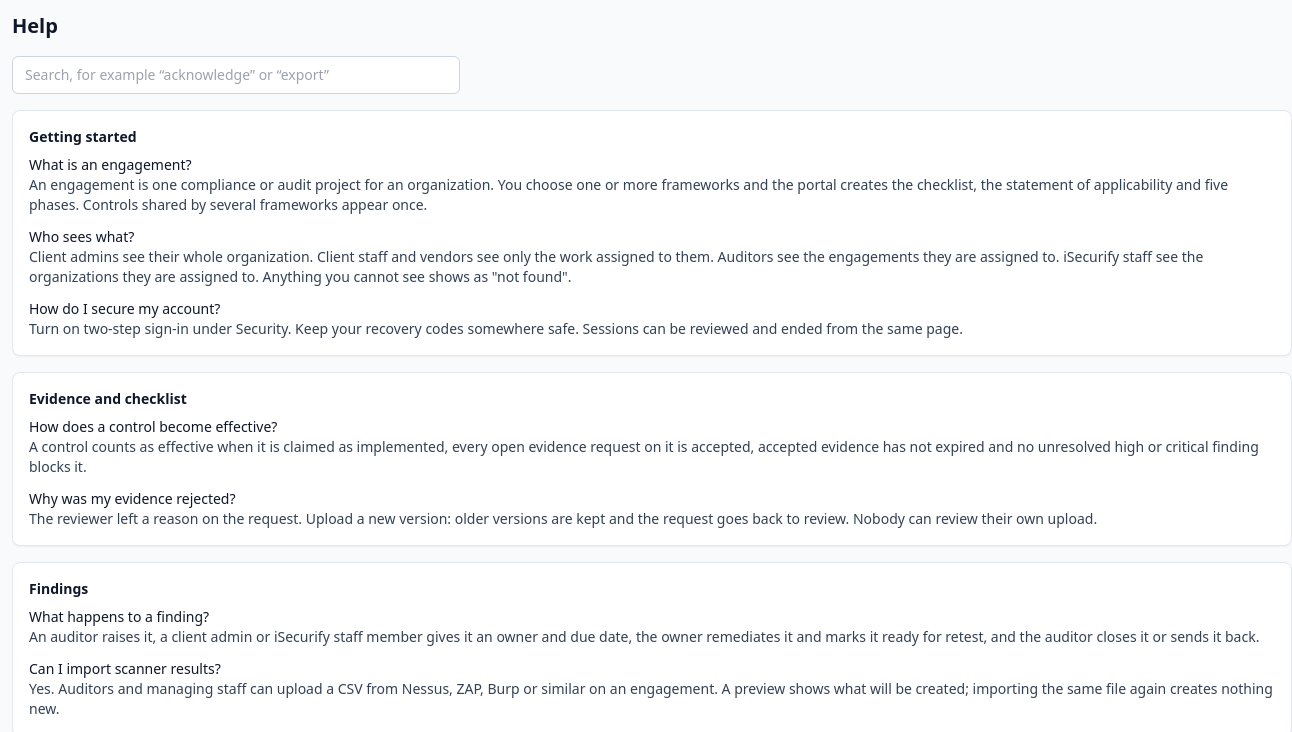
Test case: help page lists every section, filters as you type and says when nothing matches
Check: the element labelled "Getting started" is shown, box [12,110,1291,356]
Check: the element labelled "Evidence and checklist" is shown, box [12,372,1291,546]
In the field named "Search help": (236, 75) [12,56,460,94], type "acknowledge"
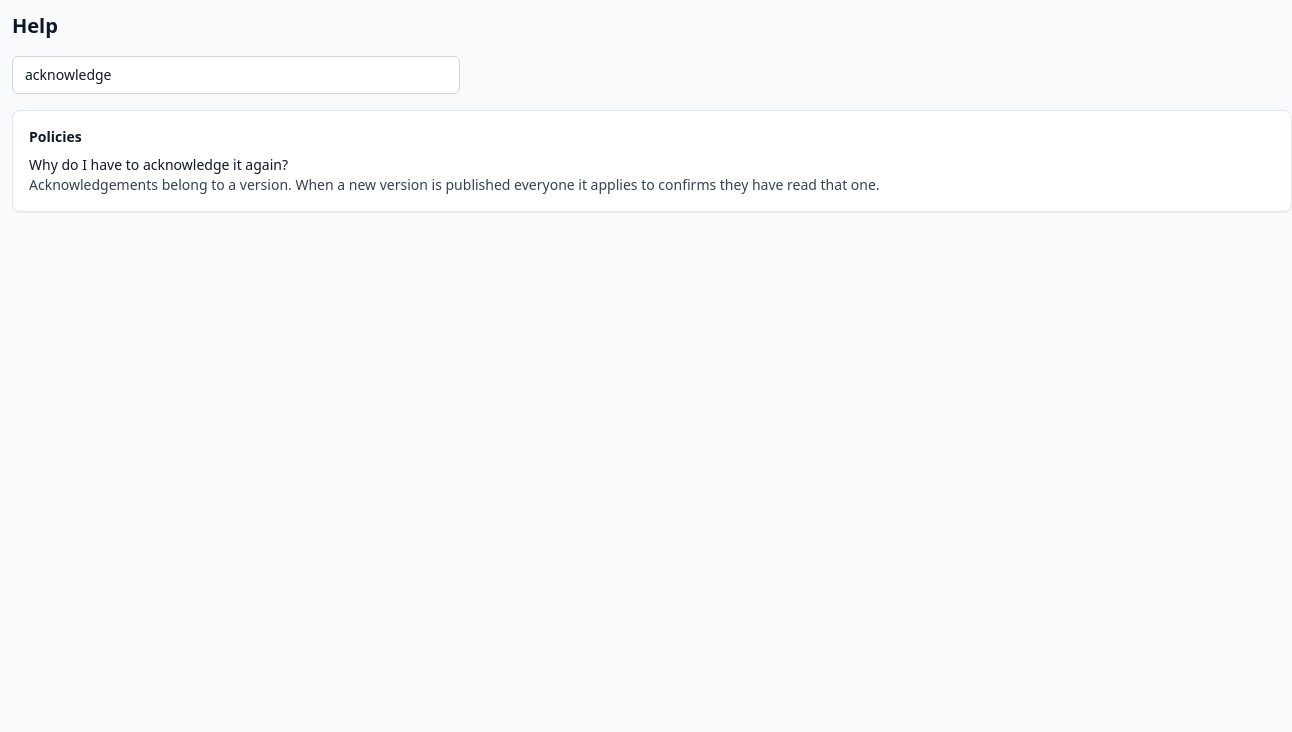
Check: the element labelled "Policies" is shown, box [12,110,1291,212]
Check: the heading labelled "Findings" is gone
Replace the text in the field named "Search help" with "qqqq": (236, 75) [12,56,460,94]
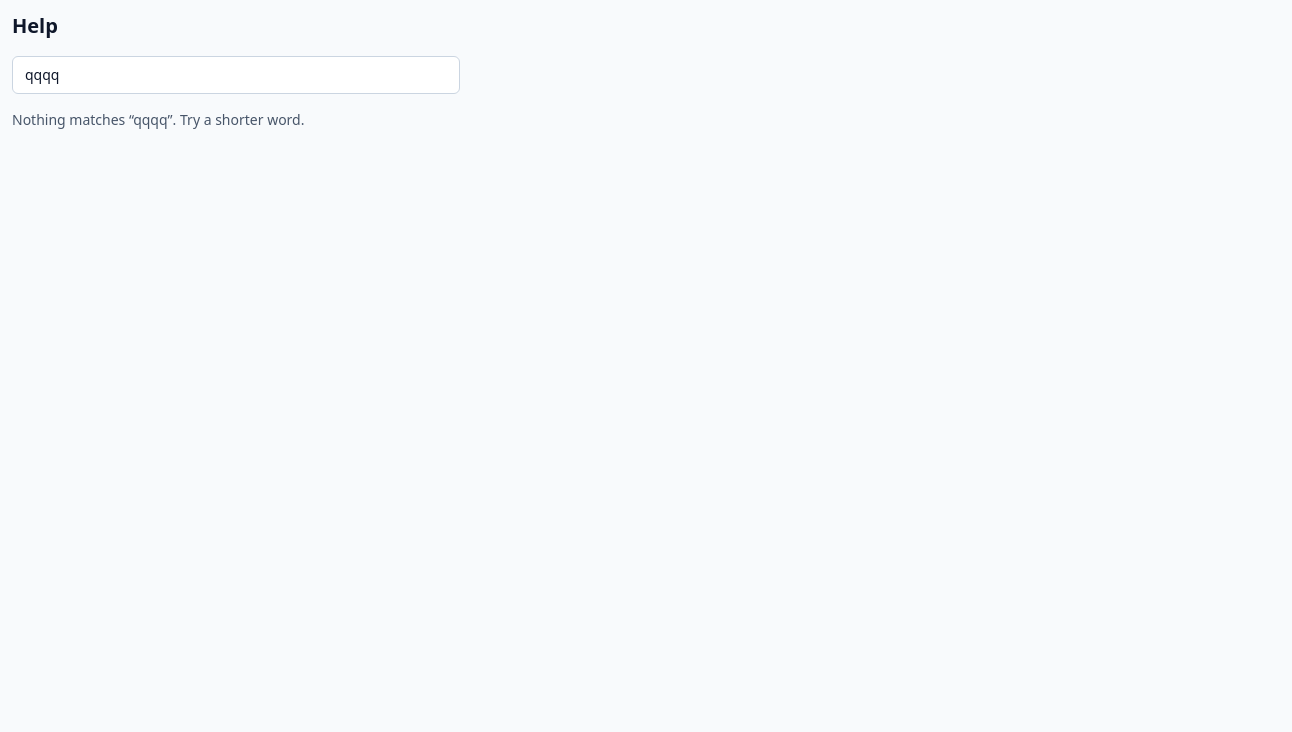
Check: the text "Nothing matches “qqqq”. Try a shorter word." is shown, box [12,110,304,129]
